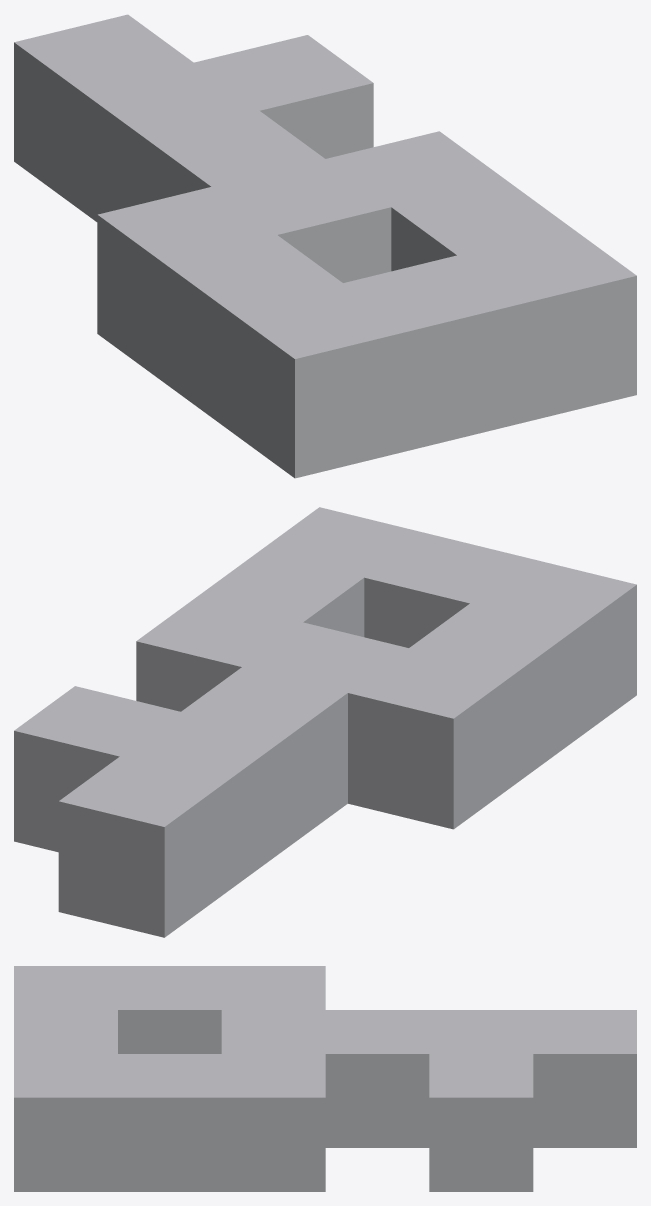
Rendered from treasure_chest_h_key.obj.
The picture shows the model from 3 angles, top to bottom: view 1: azimuth 30°, elevation 25°; view 2: azimuth 150°, elevation 25°; view 3: azimuth 270°, elevation 25°; orthographic projection. The views are drawn at different scales.
Bounding box in the file's own units: 0.3 × 0.1 × 0.6.
1 material, 1 textured.
